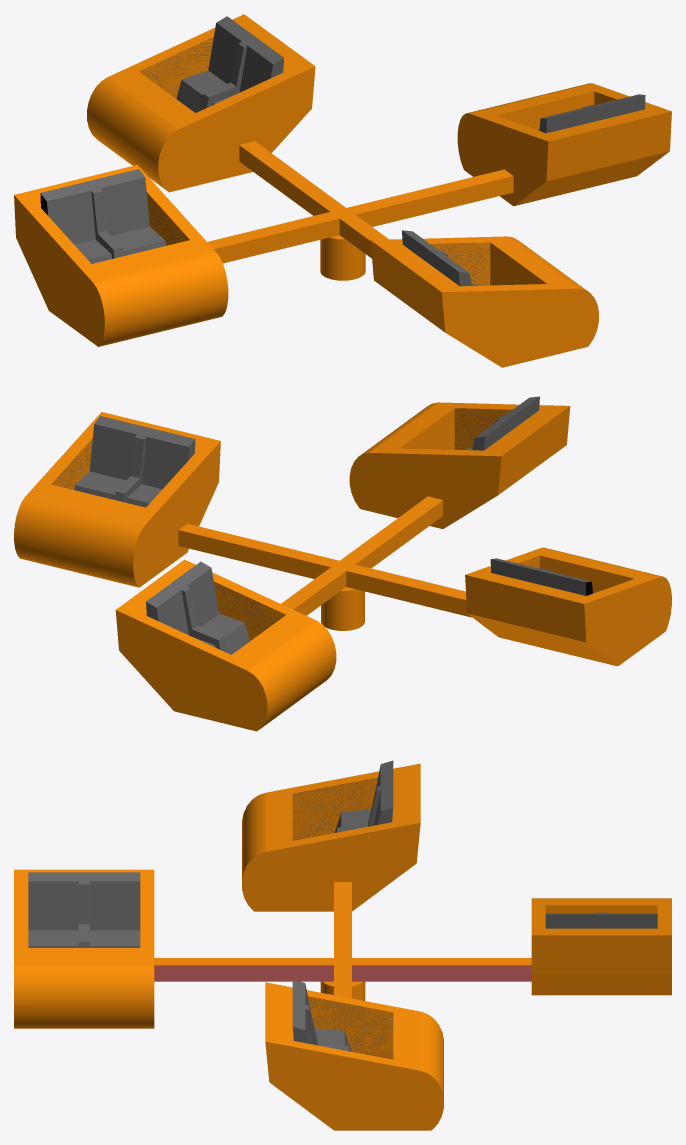
Rendered from car_red.glb.
The picture shows the model from 3 angles, top to bottom: view 1: azimuth 30°, elevation 25°; view 2: azimuth 150°, elevation 25°; view 3: azimuth 270°, elevation 25°; orthographic projection. The views are drawn at different scales.
Parts seen in each view (by area): view 1: SketchUp.009, SketchUp.019, SketchUp.028, SketchUp, SketchUp.008, SketchUp.017, SketchUp.010, SketchUp.014, SketchUp.001, SketchUp.032, SketchUp.026, SketchUp.005 (+2 smaller); view 2: SketchUp.009, SketchUp, SketchUp.019, SketchUp.028, SketchUp.008, SketchUp.001, SketchUp.010, SketchUp.016, SketchUp.017, SketchUp.031, SketchUp.026, SketchUp.021 (+2 smaller); view 3: SketchUp, SketchUp.019, SketchUp.028, SketchUp.009, SketchUp.026, SketchUp.008, SketchUp.024, SketchUp.006, SketchUp.035, SketchUp.034, SketchUp.001, SketchUp.017 (+2 smaller).
Part boxes in pixels (bbox=[...]): SketchUp.009: bbox=[87, 14, 315, 192]; SketchUp.019: bbox=[14, 165, 228, 346]; SketchUp.028: bbox=[370, 236, 598, 367]; SketchUp: bbox=[457, 83, 671, 206]; SketchUp.008: bbox=[207, 141, 513, 280]; SketchUp.017: bbox=[41, 169, 165, 263]; SketchUp.010: bbox=[176, 16, 283, 112]; SketchUp.014: bbox=[139, 37, 213, 98]; SketchUp.001: bbox=[539, 94, 645, 133]; SketchUp.032: bbox=[430, 242, 490, 285]; SketchUp.026: bbox=[402, 230, 478, 286]; SketchUp.005: bbox=[496, 91, 594, 130]; SketchUp.009: bbox=[115, 559, 336, 731]; SketchUp: bbox=[14, 412, 220, 587]; SketchUp.019: bbox=[465, 547, 671, 666]; SketchUp.028: bbox=[349, 402, 570, 528]; SketchUp.008: bbox=[178, 496, 471, 630]; SketchUp.001: bbox=[74, 416, 195, 507]; SketchUp.010: bbox=[146, 561, 249, 654]; SketchUp.016: bbox=[214, 581, 285, 640]; SketchUp.017: bbox=[490, 558, 591, 595]; SketchUp.031: bbox=[454, 408, 512, 449]; SketchUp.026: bbox=[465, 396, 539, 450]; SketchUp.021: bbox=[540, 555, 634, 593]; SketchUp: bbox=[265, 982, 443, 1130]; SketchUp.019: bbox=[242, 763, 420, 911]; SketchUp.028: bbox=[14, 869, 154, 1028]; SketchUp.009: bbox=[531, 898, 671, 995]; SketchUp.026: bbox=[28, 872, 140, 947]; SketchUp.008: bbox=[154, 882, 531, 1000]; SketchUp.024: bbox=[292, 777, 377, 840]; SketchUp.006: bbox=[308, 996, 393, 1059]; SketchUp.035: bbox=[352, 965, 531, 981]; SketchUp.034: bbox=[154, 965, 333, 981]; SketchUp.001: bbox=[292, 979, 351, 1051]; SketchUp.017: bbox=[334, 760, 393, 832].
Size of the model in its own units: 7.33 by 1.54 by 7.33.
